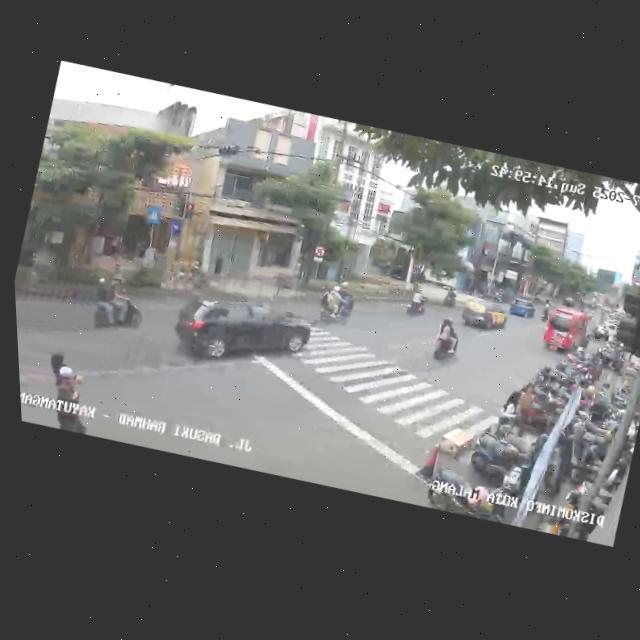car: (163, 275, 318, 389), (538, 301, 599, 363), (456, 292, 512, 340), (505, 296, 537, 322)
motorcycle: (71, 270, 154, 348), (314, 275, 360, 328), (426, 313, 466, 367), (404, 283, 431, 319), (442, 285, 460, 307), (539, 299, 553, 323)
person: (41, 362, 106, 437), (506, 380, 540, 441), (492, 386, 526, 440)
